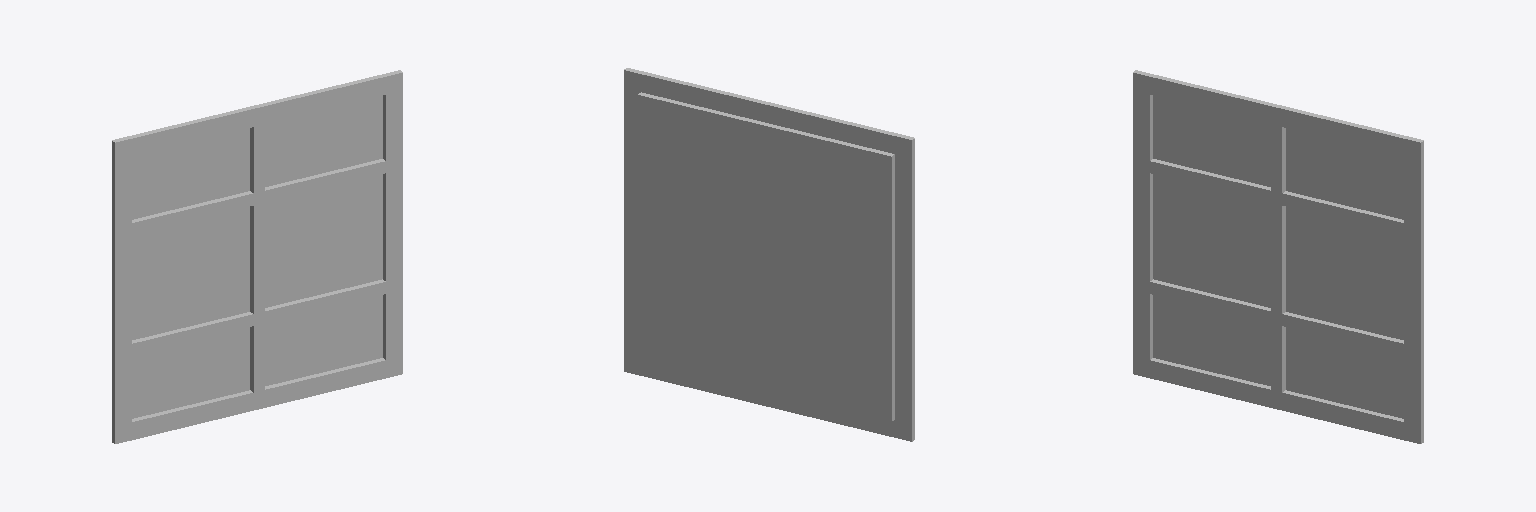
Rendered from window.obj.
The picture shows the model from 3 angles: view 1: azimuth 30°, elevation 25°; view 2: azimuth 150°, elevation 25°; view 3: azimuth 330°, elevation 25°; orthographic projection.
Visible parts, largest first — view 1: window; view 2: window; view 3: window.
Boxes of the visible parts, x1,y1,x2,y2 form: window: [112, 70, 402, 443]; window: [624, 68, 914, 441]; window: [1133, 70, 1423, 443].
Size of the model in its own units: 50 by 50 by 2.